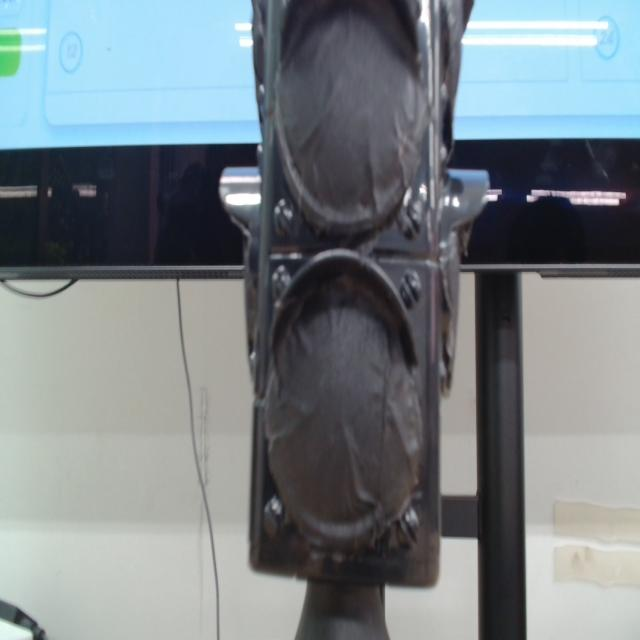green_light: (0, 30, 21, 77)
